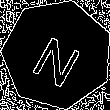N_NE: (27, 23, 87, 86)
